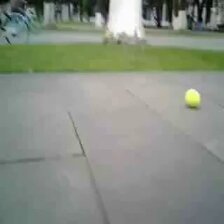tennis: (184, 89, 202, 108)
